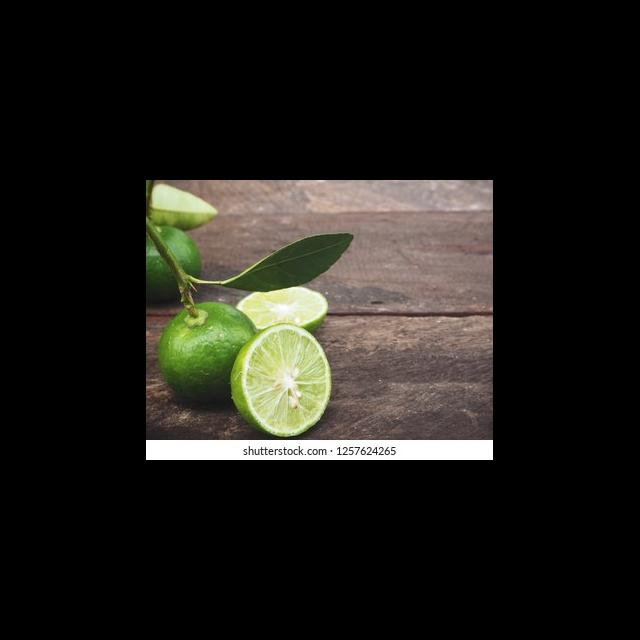lime: (154, 298, 272, 408), (147, 221, 205, 308)
